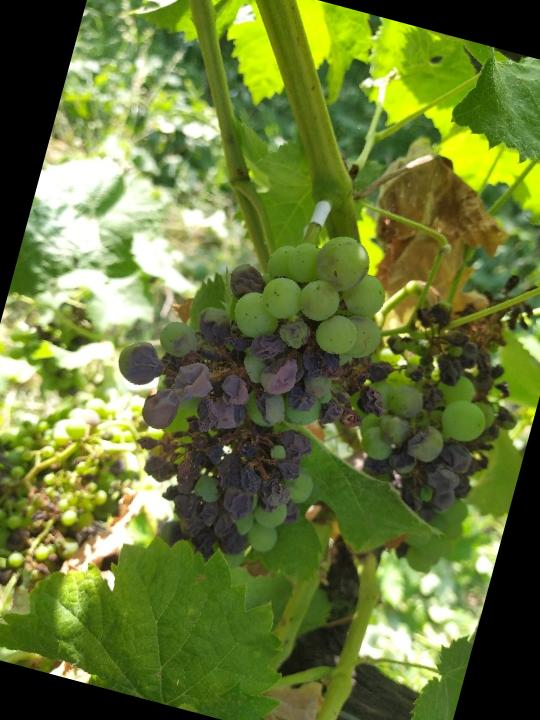grape: (71, 185, 427, 595), (325, 240, 540, 541)
